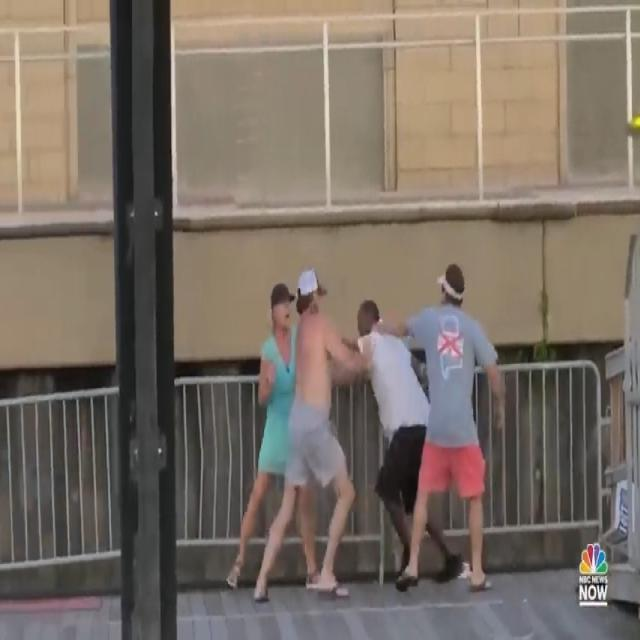fight: (224, 259, 502, 597)
